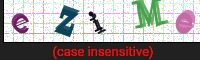M: (130, 1, 170, 30)
Z: (50, 2, 83, 39)
e: (173, 7, 197, 35), (10, 12, 32, 37)
i: (87, 9, 107, 38)
